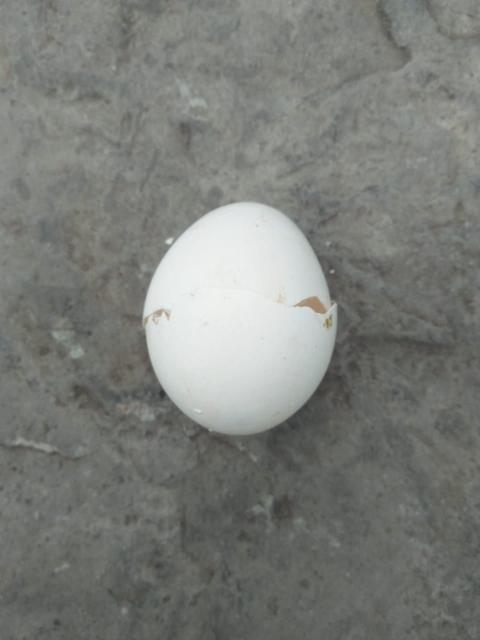Roto: (141, 200, 338, 436)
